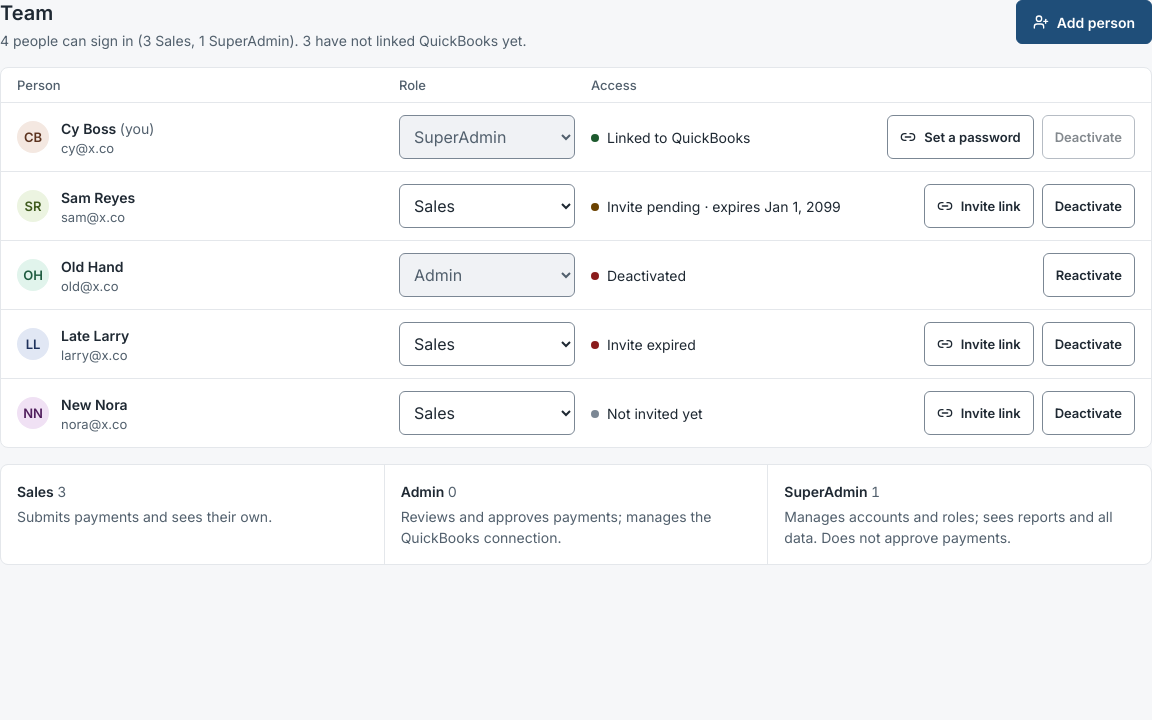
Scenario: TeamPage › adds a person and shows their one-time invite link
Click the button "Add person" at (1084, 22), box [1016, 0, 1151, 44]
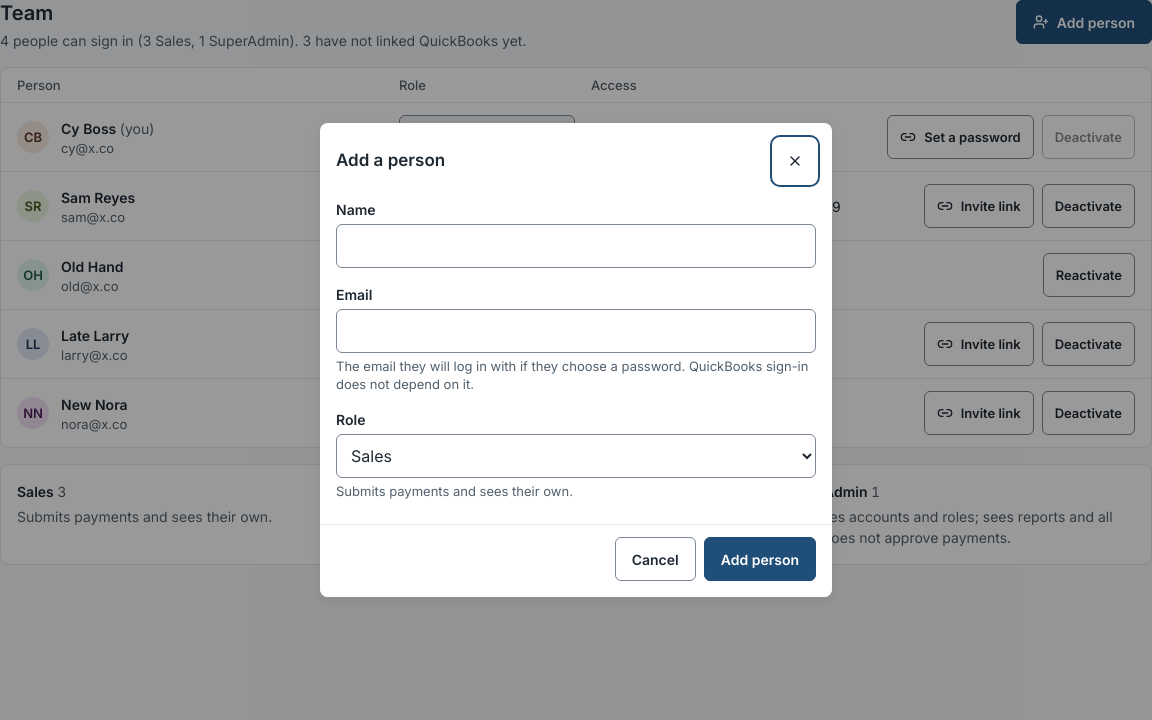
Click the button "Add person" at (760, 559), box [704, 537, 816, 581]
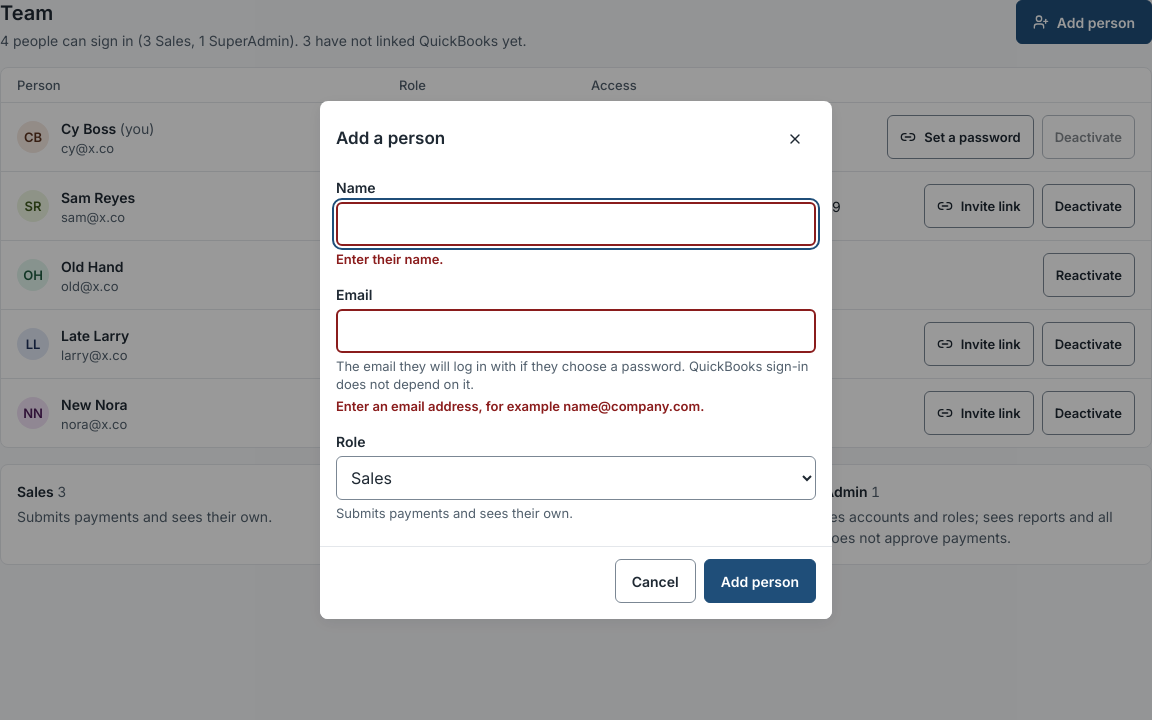
Now the text "Enter their name." is shown, box [336, 250, 444, 266]
Type "Ana Cruz" into the field labelled "Name" at (576, 224), box [336, 202, 816, 246]
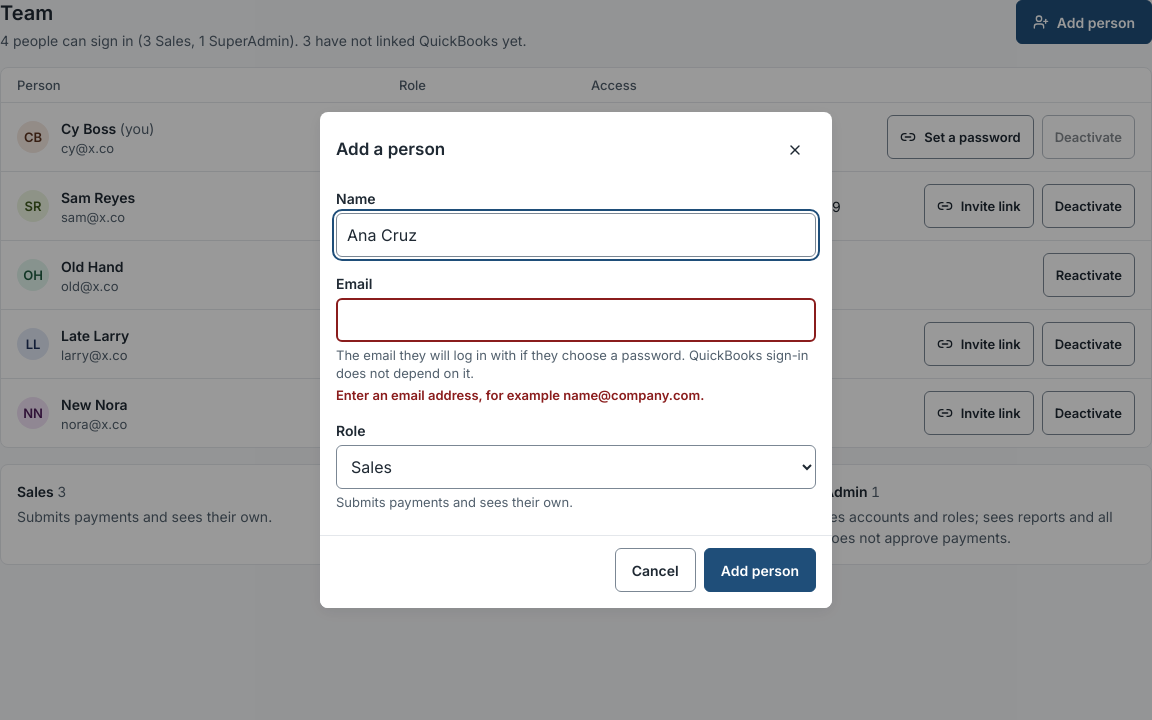
Type "ana@x.co" into the field labelled "Email" at (576, 320), box [336, 298, 816, 342]
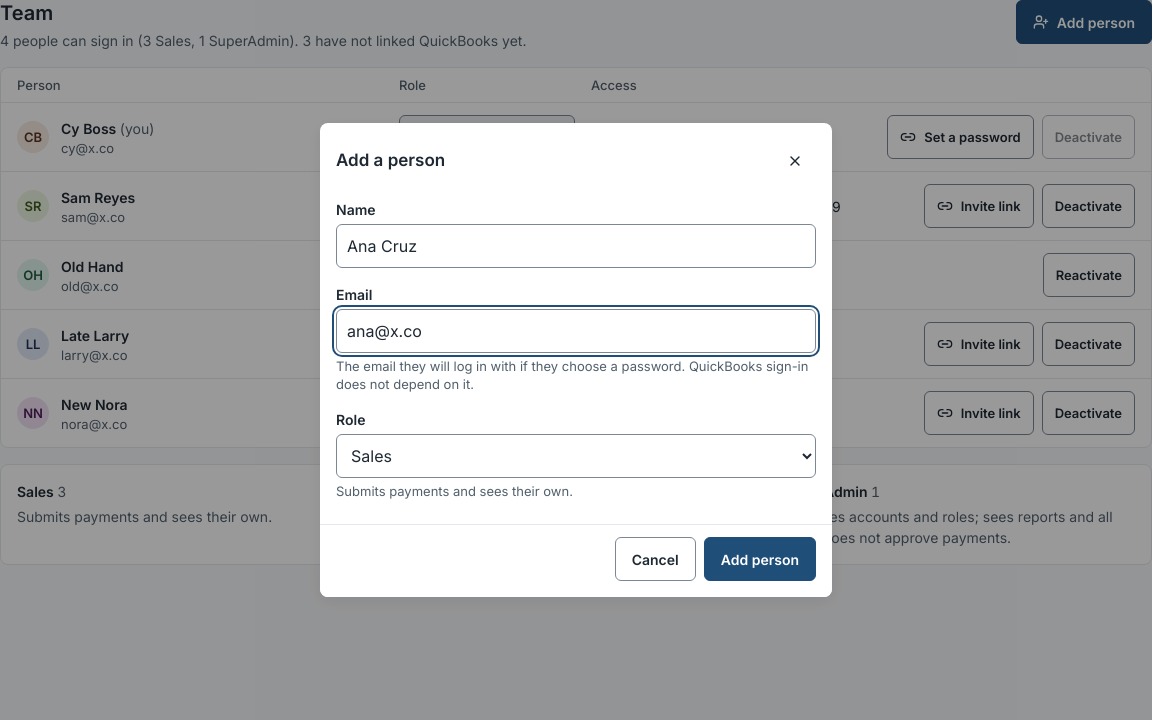
Click the button "Add person" at (760, 559), box [704, 537, 816, 581]
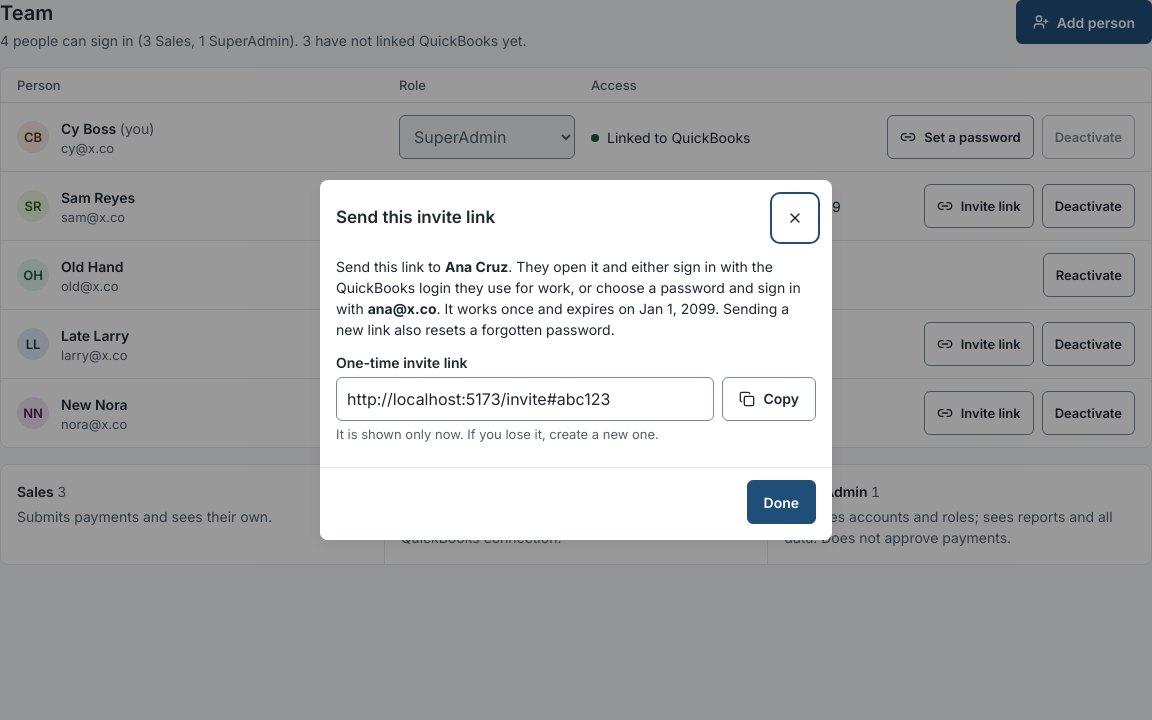
Now the field labelled "One-time invite link" holds "http://localhost:5173/invite#abc123", box [336, 377, 714, 421]
